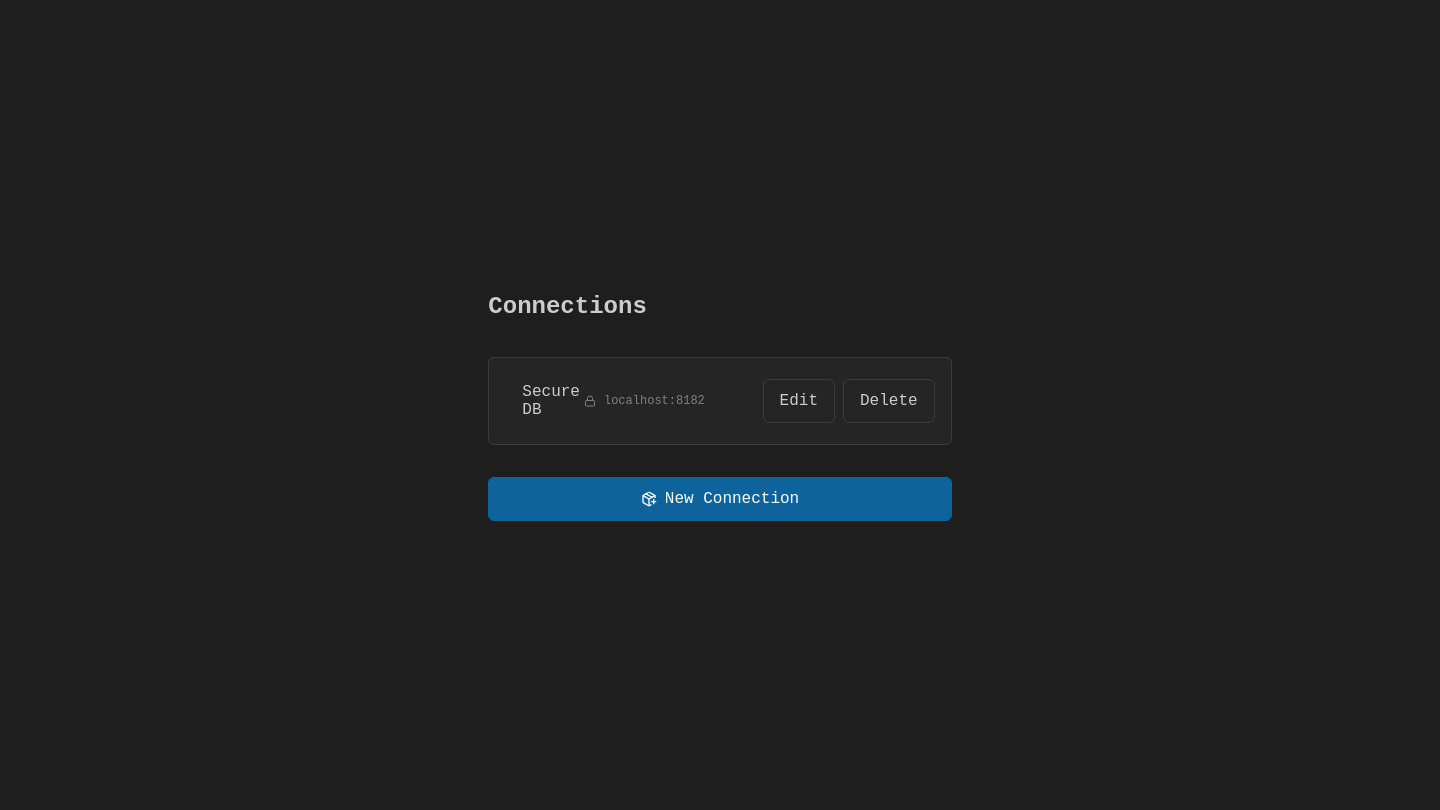
ConnectionsPanel › shows PIN modal when clicking a secure connection
What coordinates should you click on to do the following:
click the button "Secure DB localhost:8182"
I would click on:
 (628, 401)
Its box is [505,370,751,432].
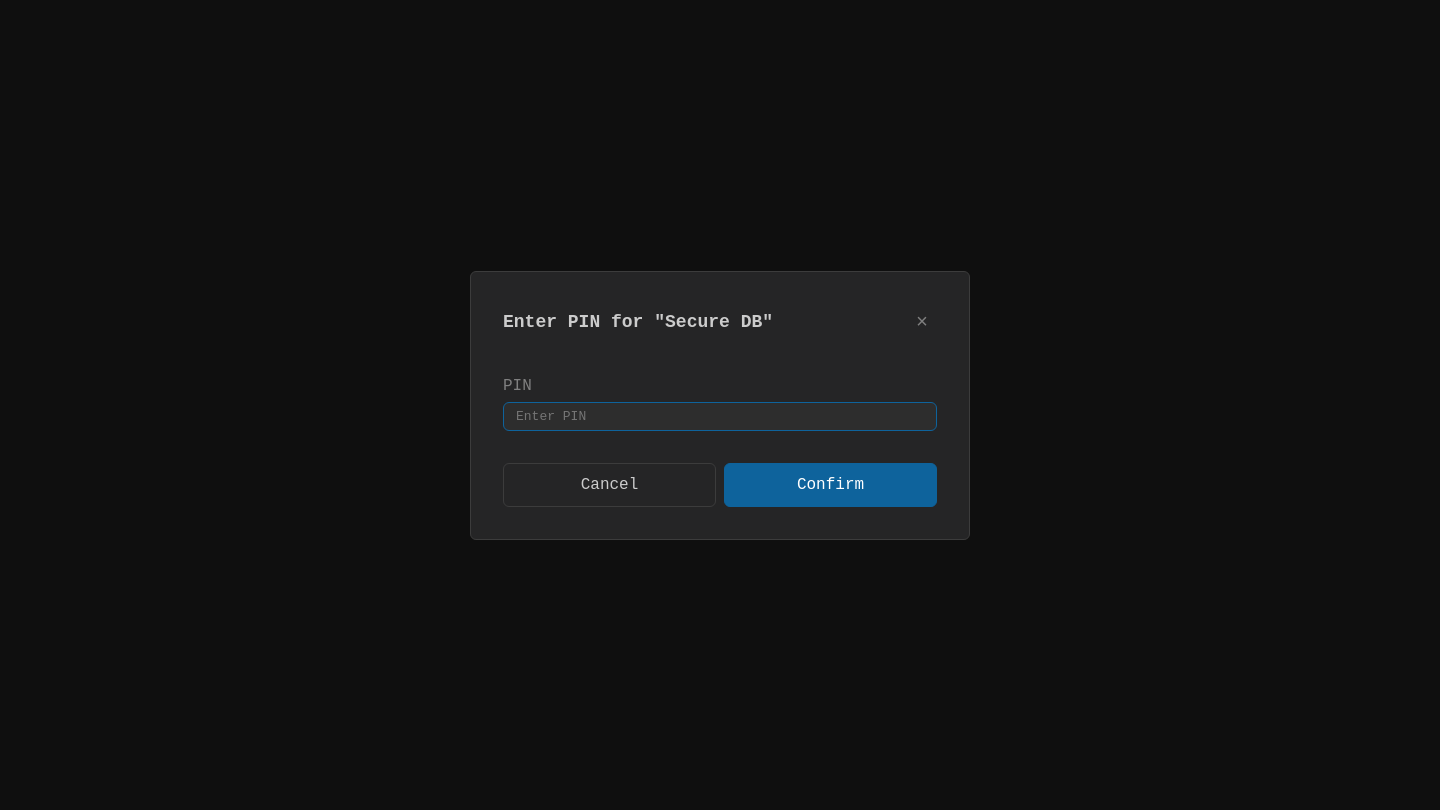
Expected: the password field labelled "PIN" is shown, [503,402,937,430]
